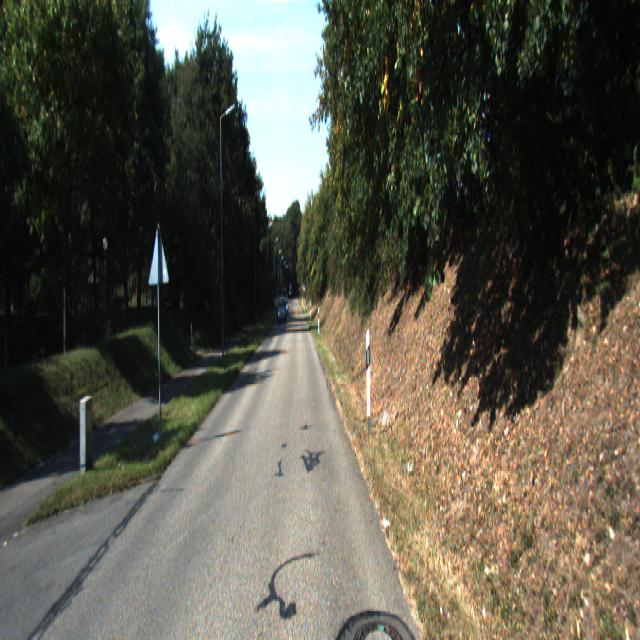Car: (278, 297, 286, 326)
